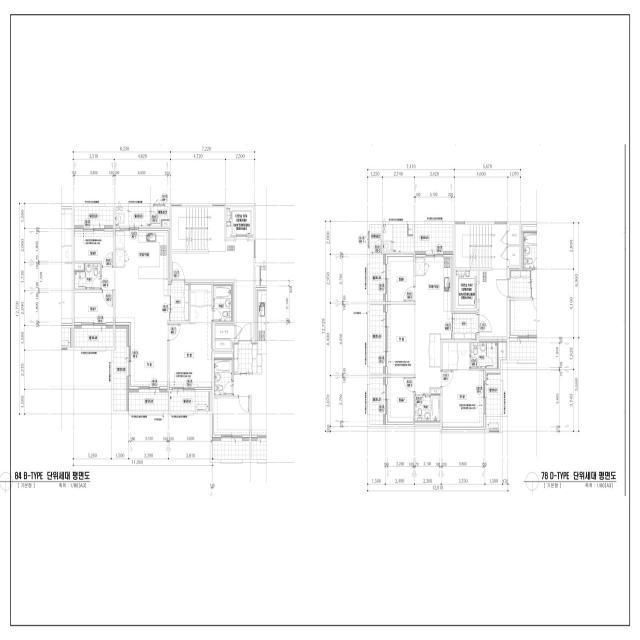space_balconi: (383, 224, 453, 254), (113, 328, 129, 411), (370, 305, 385, 374), (170, 390, 212, 411), (129, 390, 169, 411), (74, 207, 113, 228), (74, 326, 113, 347), (212, 438, 249, 460), (486, 374, 500, 430), (115, 207, 150, 228), (370, 377, 385, 425), (370, 254, 385, 301)
space_bedroom: (442, 343, 483, 427), (170, 305, 212, 387), (74, 231, 113, 266), (214, 398, 249, 435), (387, 256, 413, 301), (387, 377, 413, 422), (74, 293, 113, 322)
space_dressroom: (190, 284, 212, 306), (442, 343, 457, 370)
space_elevator: (227, 207, 254, 238), (455, 271, 477, 308)
space_elevator_hall: (172, 241, 254, 339), (479, 269, 507, 336)
space_front: (168, 282, 189, 321), (453, 313, 478, 340), (234, 344, 257, 373), (510, 270, 530, 297)
space_kitchen: (115, 231, 168, 279), (416, 257, 452, 311)
space_living_room: (102, 268, 170, 386), (388, 304, 452, 393)
space_other: (151, 206, 169, 226), (370, 224, 382, 252), (215, 324, 235, 339), (508, 225, 519, 244), (508, 247, 519, 265), (215, 340, 230, 349), (214, 352, 232, 358), (498, 343, 505, 358), (74, 263, 84, 270), (431, 389, 440, 394), (409, 224, 413, 234), (162, 221, 169, 226)
space_staircase: (172, 207, 226, 251), (455, 225, 507, 269)
space_toilet: (74, 264, 100, 290), (415, 395, 440, 421), (471, 343, 497, 368), (214, 359, 232, 395), (213, 286, 231, 321)
